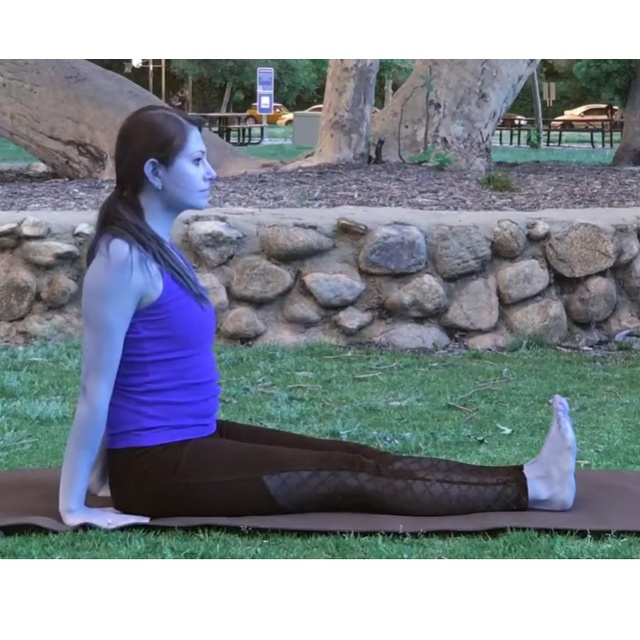Staff_Pose: (55, 104, 581, 535)
